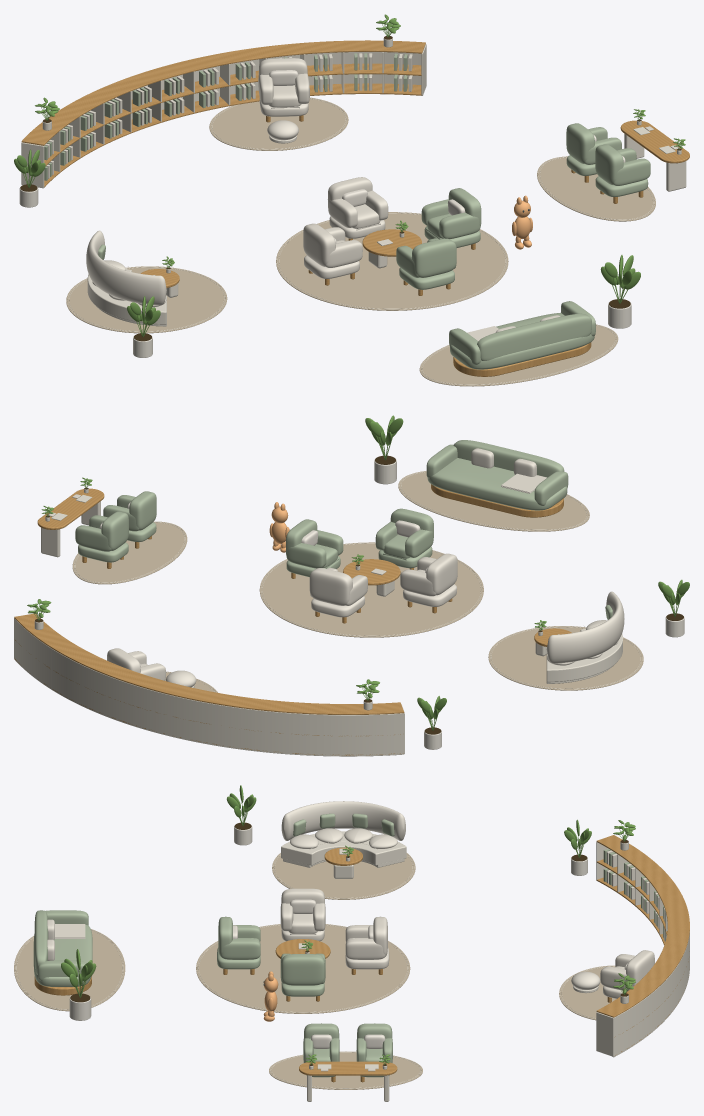
3 renders of one model, top to bottom at view 1: azimuth 30°, elevation 25°; view 2: azimuth 150°, elevation 25°; view 3: azimuth 270°, elevation 25°, orthographic. The views are drawn at different scales.
Parts seen in each view (by area): view 1: quiet_rear_library, quiet_central_reading_rug, quiet_front_sage_daybed, quiet_left_conversation_rug, quiet_rear_reading_rug, quiet_left_curved_sofa, quiet_right_journaling_rug, quiet_front_daybed_rug, quiet_rear_reading_armchair, quiet_central_reading_chair_2, quiet_central_reading_chair_1, quiet_central_reading_chair_0 (+10 smaller); view 2: quiet_rear_library, quiet_central_reading_rug, quiet_front_sage_daybed, quiet_left_conversation_rug, quiet_left_curved_sofa, quiet_front_daybed_rug, quiet_right_journaling_rug, quiet_central_reading_chair_3, quiet_central_reading_chair_0, quiet_central_reading_chair_1, quiet_central_reading_chair_2, quiet_right_journaling_desk (+8 smaller); view 3: quiet_rear_library, quiet_central_reading_rug, quiet_left_curved_sofa, quiet_front_sage_daybed, quiet_left_conversation_rug, quiet_front_daybed_rug, quiet_right_journaling_rug, quiet_central_reading_chair_0, quiet_central_reading_chair_2, quiet_central_reading_chair_3, quiet_central_reading_chair_1, quiet_right_journaling_desk (+10 smaller).
Boxes of the visible parts, <box> form: quiet_rear_library: <box>21,14,426,188</box>; quiet_central_reading_rug: <box>276,212,508,310</box>; quiet_front_sage_daybed: <box>449,301,595,376</box>; quiet_left_conversation_rug: <box>66,266,227,333</box>; quiet_rear_reading_rug: <box>209,97,348,150</box>; quiet_left_curved_sofa: <box>86,230,166,326</box>; quiet_right_journaling_rug: <box>537,156,655,221</box>; quiet_front_daybed_rug: <box>419,324,618,386</box>; quiet_rear_reading_armchair: <box>258,58,309,122</box>; quiet_central_reading_chair_2: <box>327,177,388,240</box>; quiet_central_reading_chair_1: <box>421,188,481,249</box>; quiet_central_reading_chair_0: <box>303,223,362,285</box>; quiet_rear_library: <box>14,599,404,756</box>; quiet_central_reading_rug: <box>259,542,483,637</box>; quiet_front_sage_daybed: <box>426,440,568,517</box>; quiet_left_conversation_rug: <box>488,626,643,690</box>; quiet_left_curved_sofa: <box>546,591,624,683</box>; quiet_front_daybed_rug: <box>398,471,589,531</box>; quiet_right_journaling_rug: <box>72,521,187,584</box>; quiet_central_reading_chair_3: <box>375,508,433,569</box>; quiet_central_reading_chair_0: <box>400,553,457,613</box>; quiet_central_reading_chair_1: <box>286,519,343,578</box>; quiet_central_reading_chair_2: <box>309,567,367,623</box>; quiet_right_journaling_desk: <box>37,477,104,557</box>; quiet_rear_library: <box>596,820,689,1057</box>; quiet_central_reading_rug: <box>196,924,410,1013</box>; quiet_left_curved_sofa: <box>281,801,406,867</box>; quiet_front_sage_daybed: <box>33,910,92,995</box>; quiet_left_conversation_rug: <box>272,853,415,899</box>; quiet_front_daybed_rug: <box>14,929,125,1011</box>; quiet_right_journaling_rug: <box>269,1051,422,1089</box>; quiet_central_reading_chair_0: <box>280,888,325,941</box>; quiet_central_reading_chair_2: <box>345,916,389,974</box>; quiet_central_reading_chair_3: <box>217,916,260,974</box>; quiet_central_reading_chair_1: <box>280,953,325,1001</box>; quiet_right_journaling_desk: <box>299,1054,397,1101</box>.
Size of the model in its own units: 14.83 by 1.78 by 15.78.
Materials: 12 (1 with a texture image).
